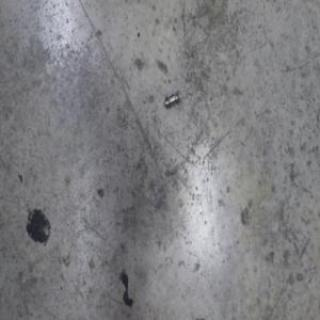Bolttrack_idkeyframe: (165, 87, 181, 107)
